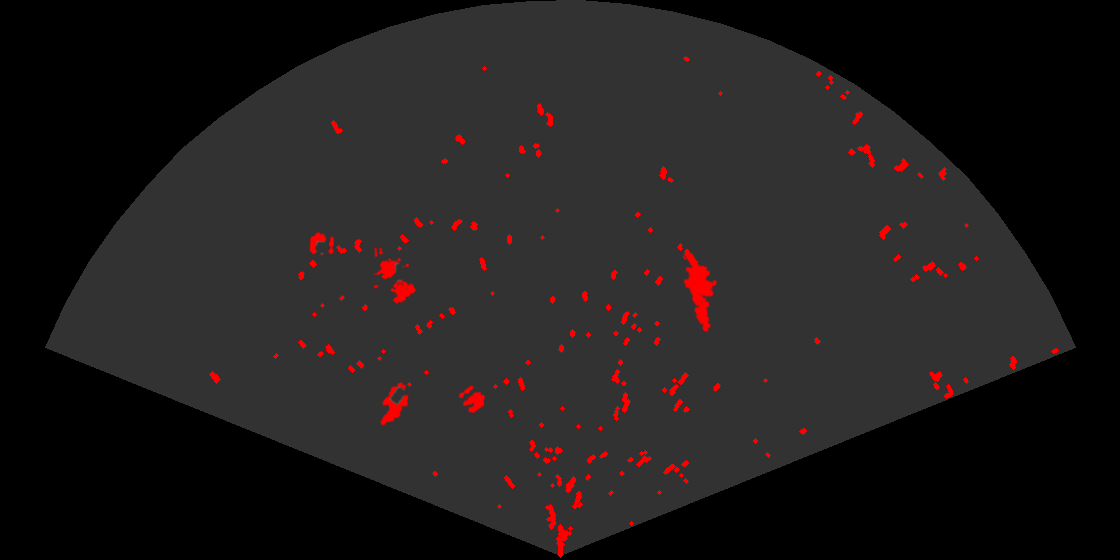AUV: (378, 381, 410, 427)
ball: (457, 384, 487, 415), (308, 231, 336, 257)
cage: (374, 248, 418, 306)
frogman: (682, 253, 719, 334)
